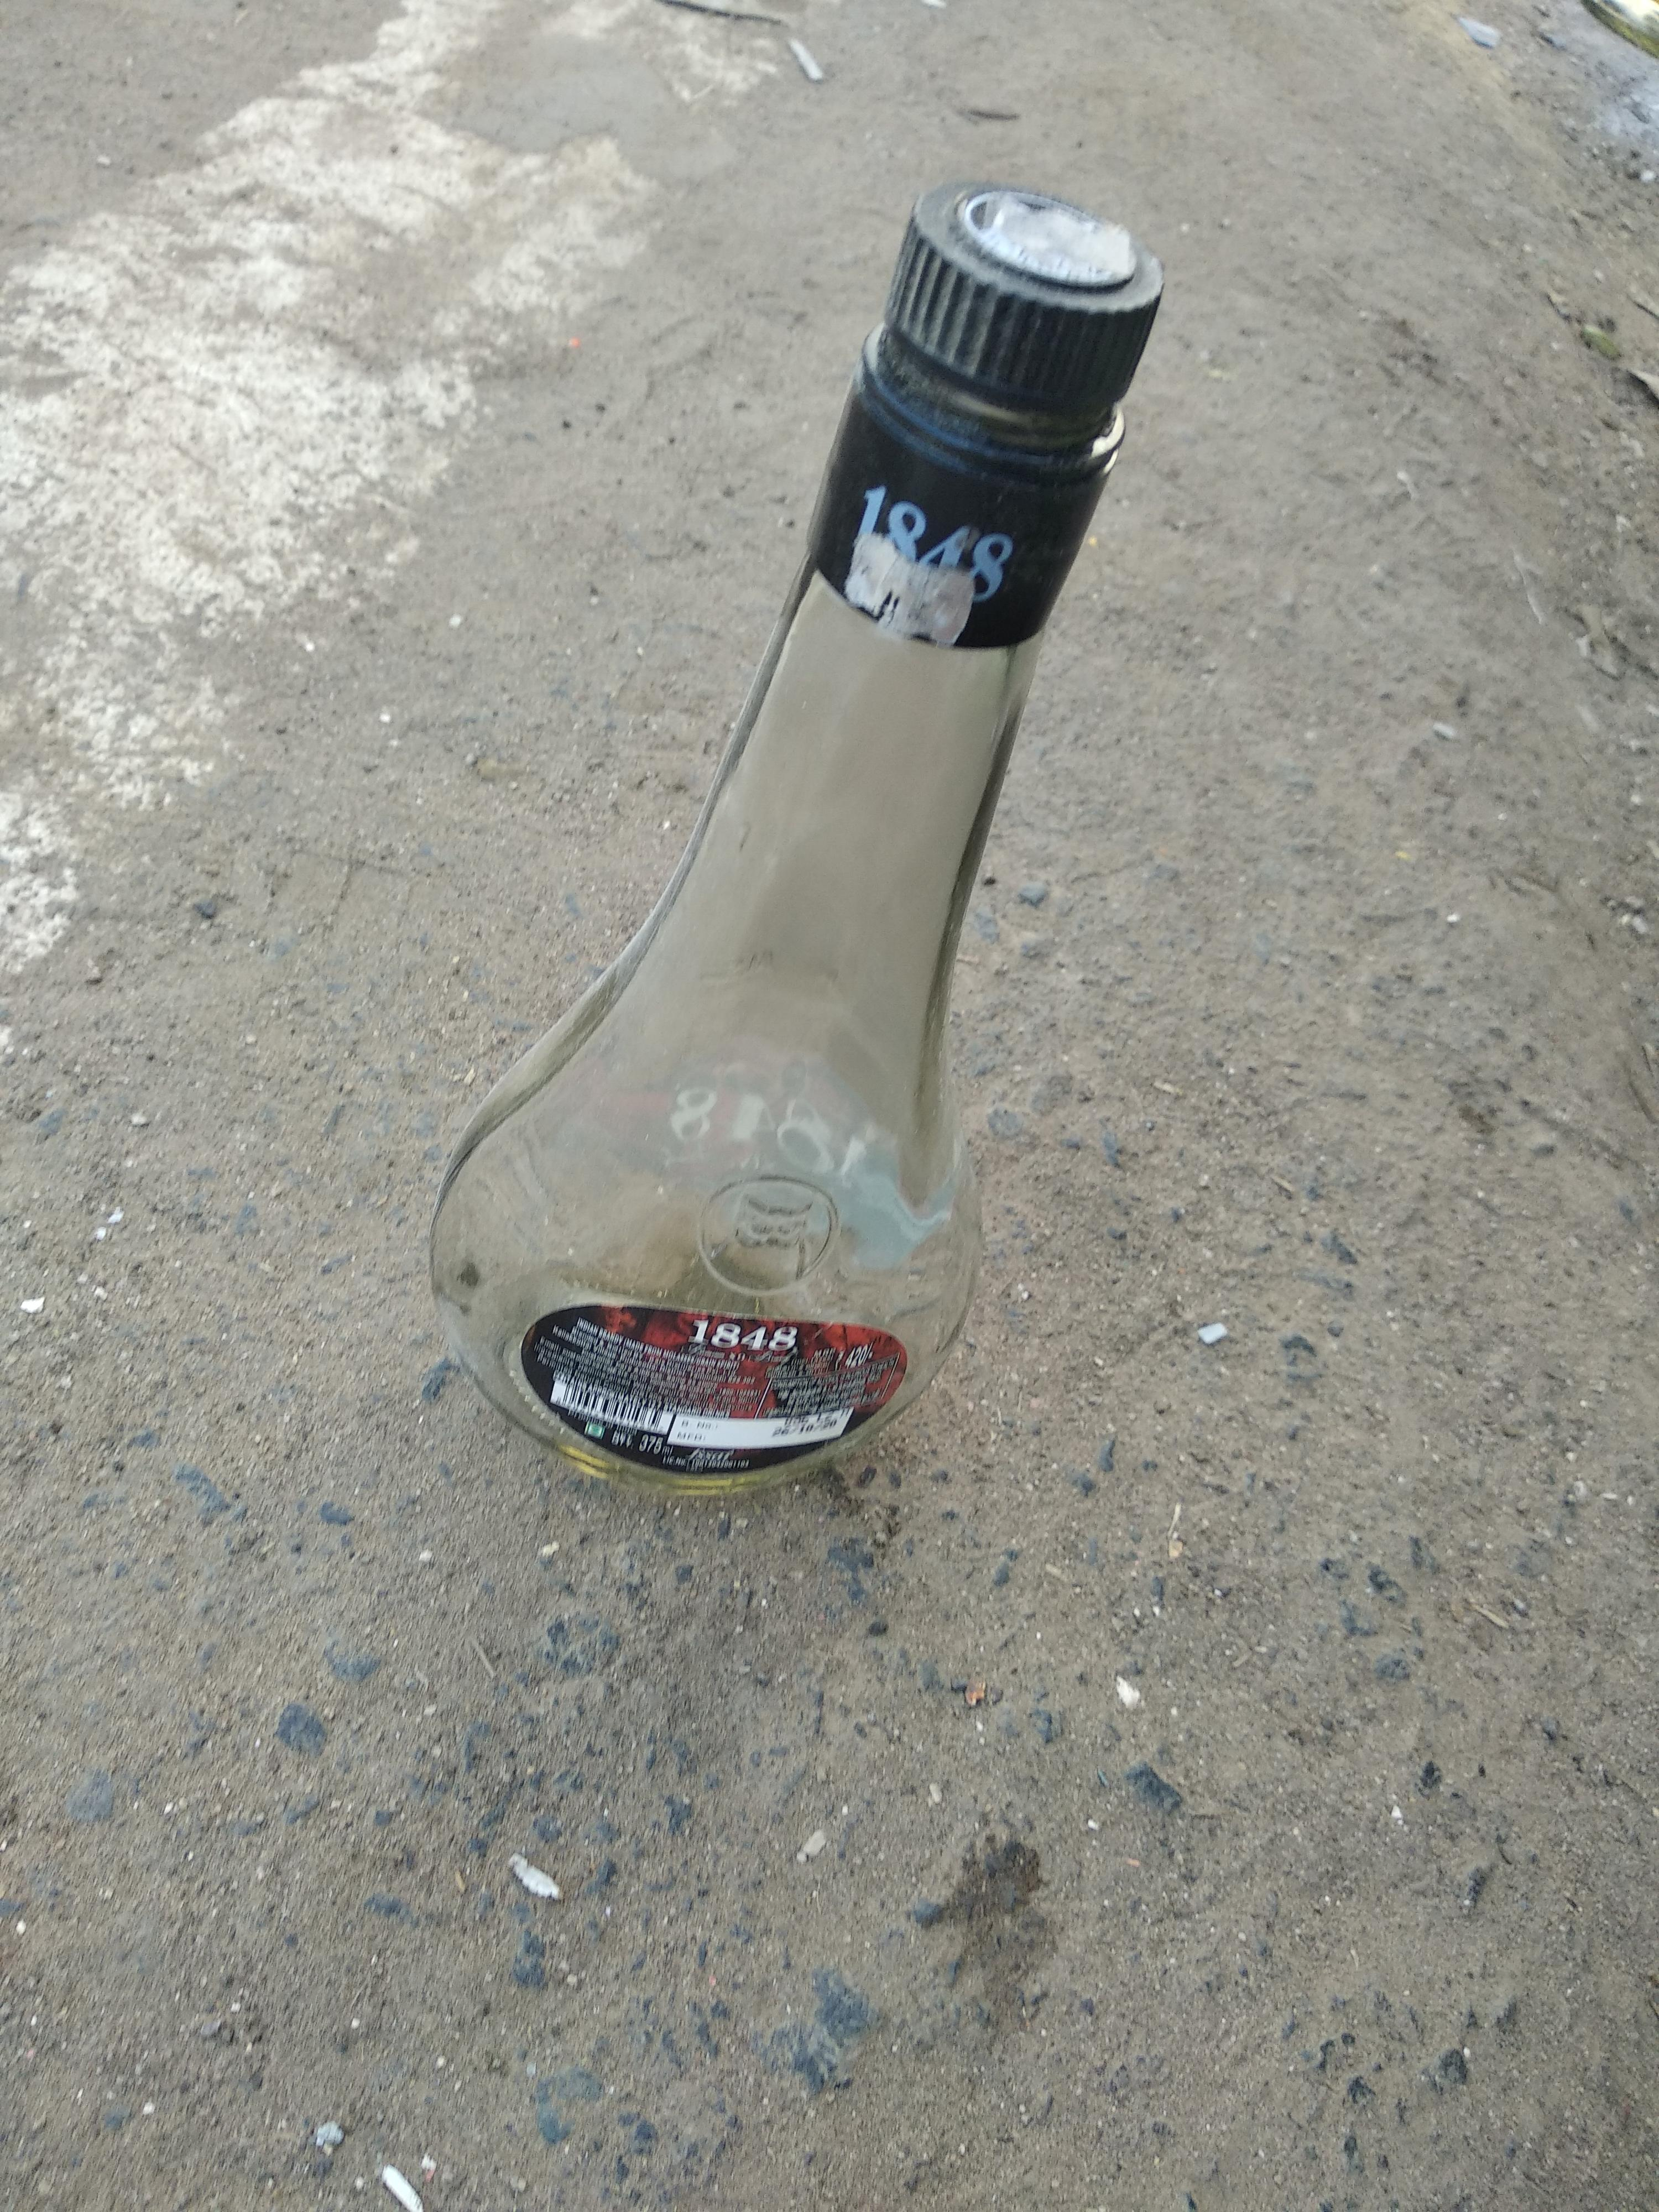trash: (425, 164, 1173, 1543)
